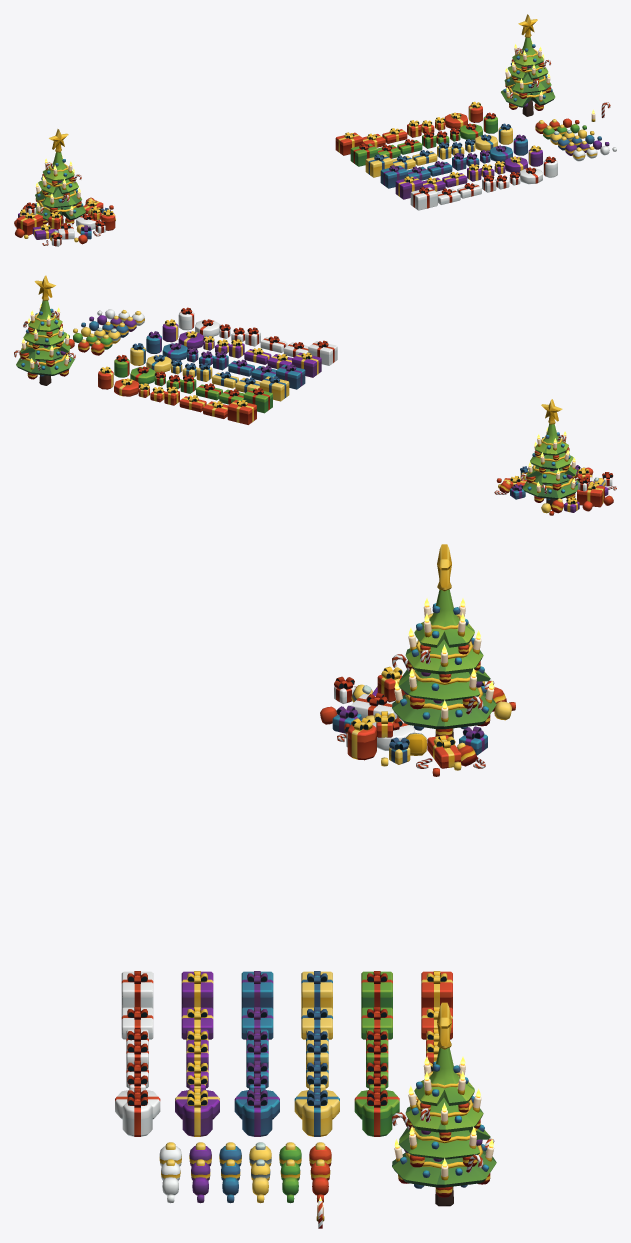
The picture shows the model from 3 angles, top to bottom: view 1: azimuth 30°, elevation 25°; view 2: azimuth 150°, elevation 25°; view 3: azimuth 270°, elevation 25°; orthographic projection. The views are drawn at different scales.
Visible parts, largest first — view 1: arrangement_christmas_tree_mat_0, christmas_tree_christmas_tree_mat_0, presi_square_1_white_christmas_tree_mat_0, presi_square_1_purple_christmas_tree_mat_0, presi_square_1_green_christmas_tree_mat_0, presi_square_1_yellow_christmas_tree_mat_0, presi_square_1_blue_christmas_tree_mat_0, presi_square_1_red_christmas_tree_mat_0, presi_round_1_white_christmas_tree_mat_0; view 2: arrangement_christmas_tree_mat_0, christmas_tree_christmas_tree_mat_0, presi_square_1_red_christmas_tree_mat_0, presi_square_1_yellow_christmas_tree_mat_0, presi_square_1_blue_christmas_tree_mat_0, presi_square_1_purple_christmas_tree_mat_0, presi_square_1_white_christmas_tree_mat_0, presi_square_1_green_christmas_tree_mat_0, presi_round_1_red_christmas_tree_mat_0, presi_round_1_purple_christmas_tree_mat_0, presi_round_1_white_christmas_tree_mat_0, presi_round_1_green_christmas_tree_mat_0 (+4 smaller); view 3: arrangement_christmas_tree_mat_0, christmas_tree_christmas_tree_mat_0, presi_square_1_blue_christmas_tree_mat_0, presi_square_1_purple_christmas_tree_mat_0, presi_square_1_white_christmas_tree_mat_0, presi_square_1_yellow_christmas_tree_mat_0, presi_square_1_green_christmas_tree_mat_0, presi_square_1_red_christmas_tree_mat_0, presi_round_2_green_christmas_tree_mat_0, presi_round_2_yellow_christmas_tree_mat_0, presi_round_2_blue_christmas_tree_mat_0, presi_round_2_purple_christmas_tree_mat_0 (+1 smaller).
Part boxes in pixels (x1,y1,x2,y2): arrangement_christmas_tree_mat_0: [14, 129, 115, 246]; christmas_tree_christmas_tree_mat_0: [501, 14, 555, 116]; presi_square_1_white_christmas_tree_mat_0: [410, 187, 437, 210]; presi_square_1_purple_christmas_tree_mat_0: [395, 176, 422, 199]; presi_square_1_green_christmas_tree_mat_0: [350, 143, 377, 166]; presi_square_1_yellow_christmas_tree_mat_0: [365, 154, 392, 177]; presi_square_1_blue_christmas_tree_mat_0: [380, 165, 407, 188]; presi_square_1_red_christmas_tree_mat_0: [335, 132, 362, 155]; presi_round_1_white_christmas_tree_mat_0: [519, 167, 542, 184]; arrangement_christmas_tree_mat_0: [494, 399, 616, 515]; christmas_tree_christmas_tree_mat_0: [14, 275, 75, 385]; presi_square_1_red_christmas_tree_mat_0: [227, 400, 256, 424]; presi_square_1_yellow_christmas_tree_mat_0: [259, 376, 289, 401]; presi_square_1_blue_christmas_tree_mat_0: [276, 364, 305, 389]; presi_square_1_purple_christmas_tree_mat_0: [292, 352, 321, 377]; presi_square_1_white_christmas_tree_mat_0: [308, 340, 337, 365]; presi_square_1_green_christmas_tree_mat_0: [243, 388, 272, 413]; presi_round_1_red_christmas_tree_mat_0: [114, 378, 139, 396]; presi_round_1_purple_christmas_tree_mat_0: [178, 331, 203, 349]; presi_round_1_white_christmas_tree_mat_0: [195, 319, 220, 337]; presi_round_1_green_christmas_tree_mat_0: [130, 366, 155, 384]; arrangement_christmas_tree_mat_0: [320, 544, 515, 776]; christmas_tree_christmas_tree_mat_0: [392, 1002, 496, 1206]; presi_square_1_blue_christmas_tree_mat_0: [241, 971, 273, 1008]; presi_square_1_purple_christmas_tree_mat_0: [181, 971, 213, 1008]; presi_square_1_white_christmas_tree_mat_0: [121, 971, 153, 1008]; presi_square_1_yellow_christmas_tree_mat_0: [301, 971, 332, 1008]; presi_square_1_green_christmas_tree_mat_0: [361, 971, 392, 1008]; presi_square_1_red_christmas_tree_mat_0: [421, 971, 452, 1008]; presi_round_2_green_christmas_tree_mat_0: [362, 1094, 392, 1136]; presi_round_2_yellow_christmas_tree_mat_0: [302, 1094, 332, 1136]; presi_round_2_blue_christmas_tree_mat_0: [242, 1094, 272, 1136]; presi_round_2_purple_christmas_tree_mat_0: [182, 1094, 212, 1136].
Bounding box in the file's own units: 4397 × 741 × 1339.
1 material, 1 textured.
